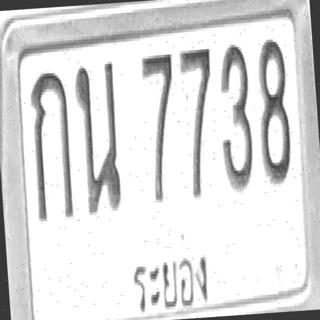A01: (27, 67, 75, 221)
A25: (73, 57, 124, 214)
N03: (214, 40, 256, 191)
N07: (140, 49, 182, 203), (178, 45, 220, 199)
N08: (254, 33, 294, 184)
P53: (123, 240, 217, 320)
